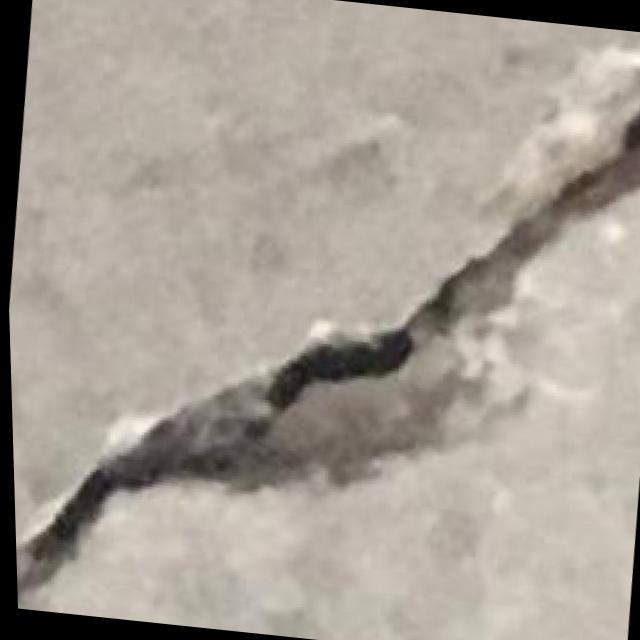Crack: (0, 7, 640, 640)
